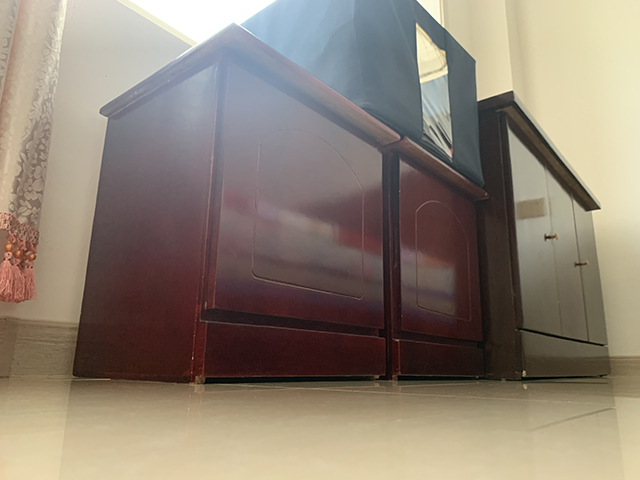cabinet: (58, 21, 491, 386), (477, 90, 613, 383)
